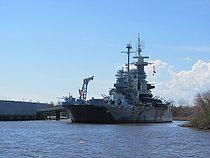MIL_Ship: (61, 31, 174, 124)
